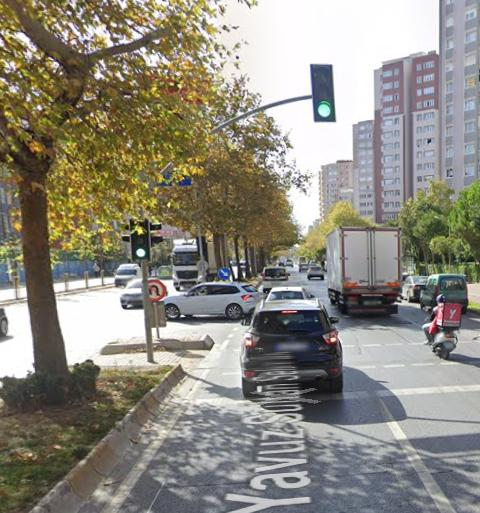greenlight: (311, 61, 337, 124), (126, 215, 154, 261)
